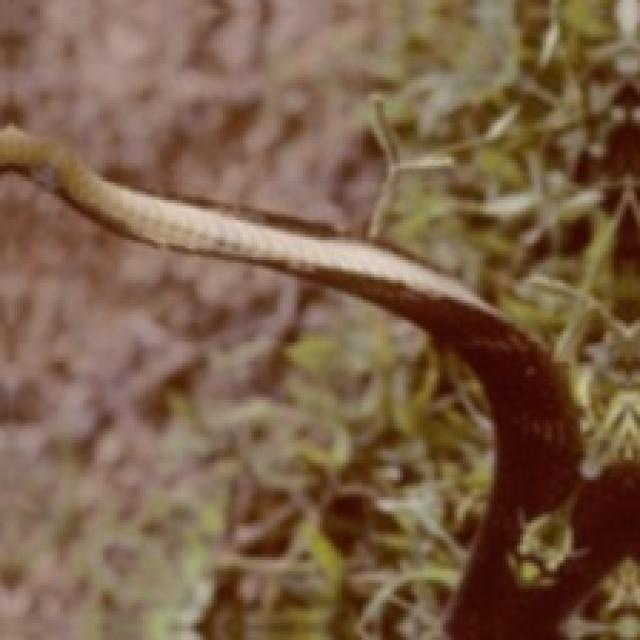king cobra: (0, 129, 637, 637)
